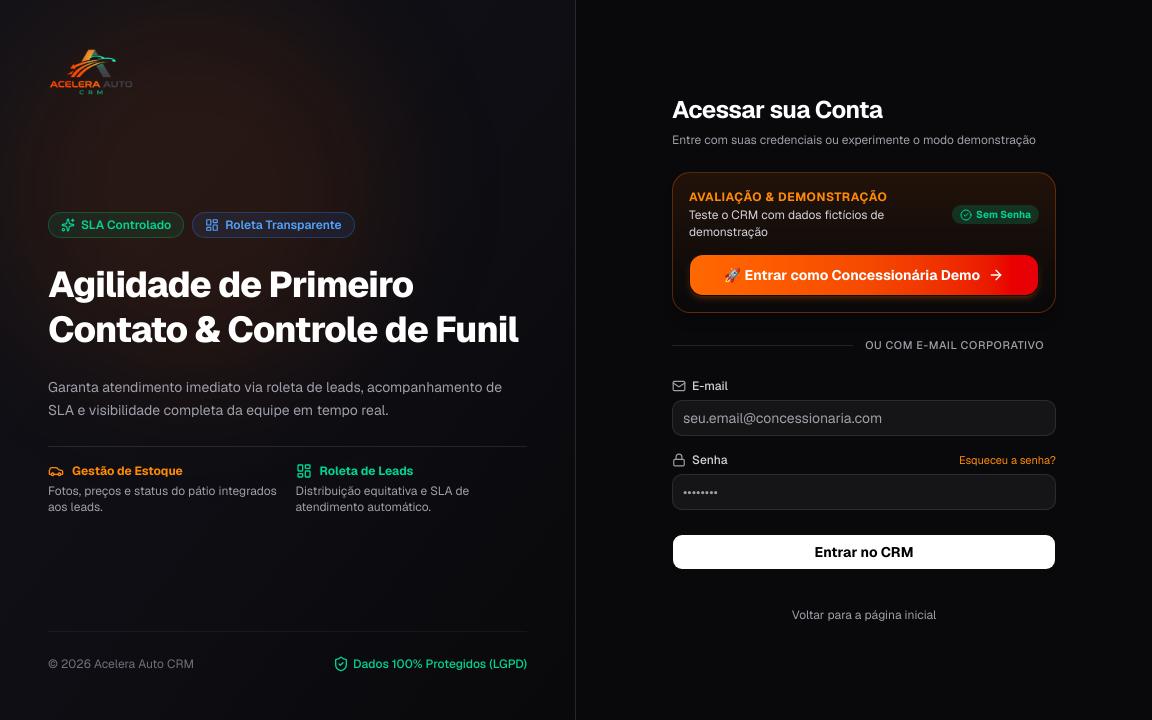
Test case: [IT-12] Página de Login e Autenticação (LoginPage) › [IT-12.2] Deve exibir alerta de validação ao submeter formulário sem credenciais
Note: Act (Submete formulário vazio)
Step 1. Click the button "Entrar no CRM" → (864, 552), box x1=672 y1=534 x2=1056 y2=570
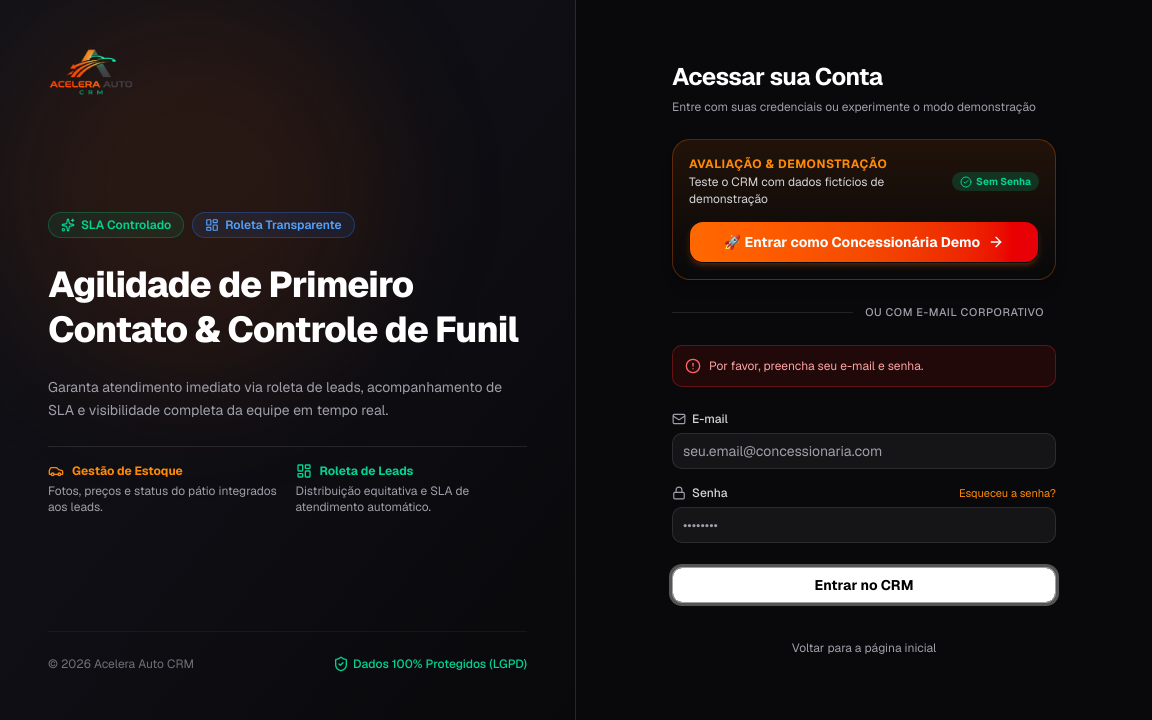
Expected: the message shows "preencha seu e-mail e senha", x1=709 y1=358 x2=923 y2=374
